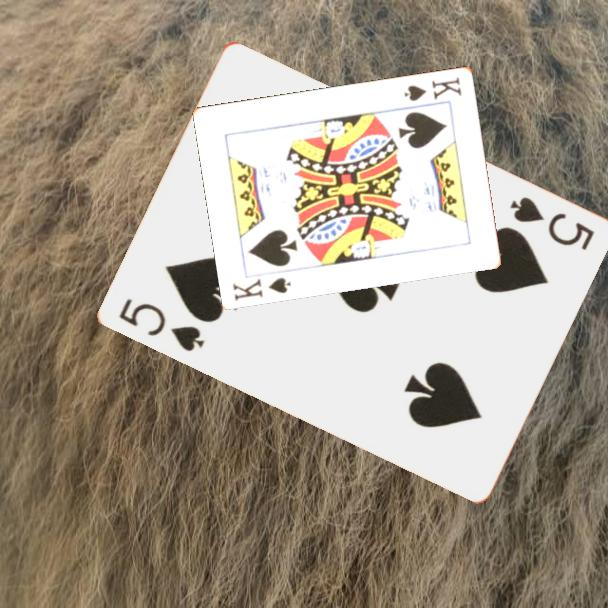s05: (114, 295, 207, 355), (506, 193, 597, 254)
s13: (229, 273, 294, 304), (401, 73, 464, 104)
